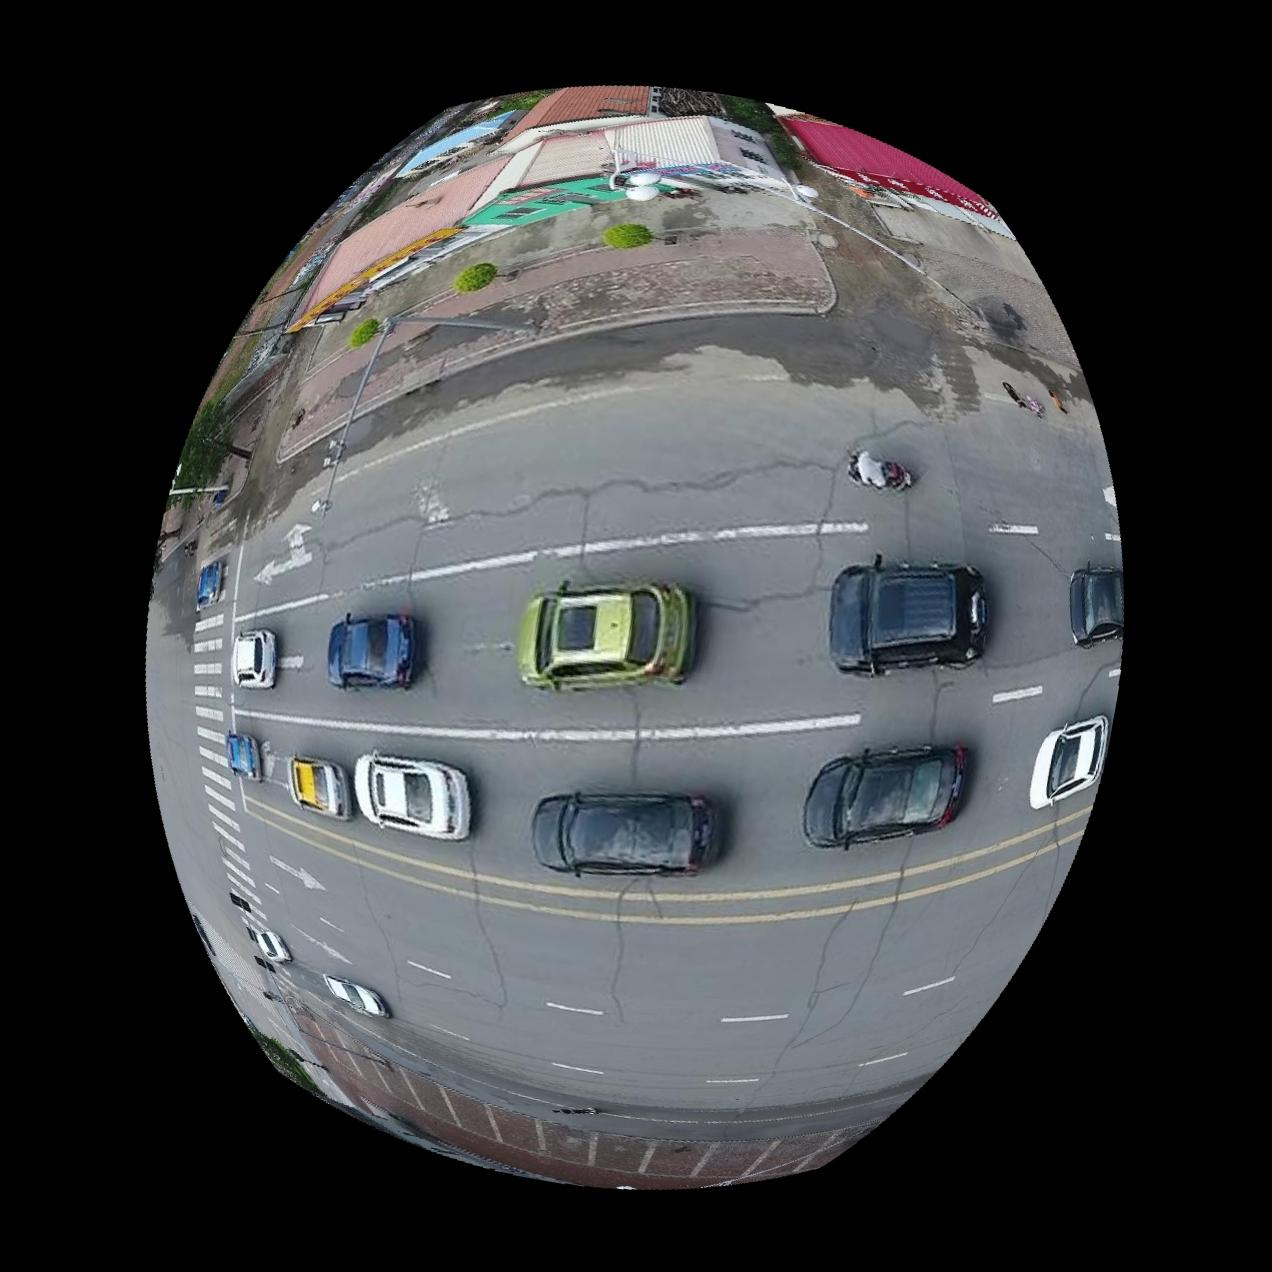cars: (517, 580, 694, 691), (831, 553, 990, 674), (805, 744, 968, 848), (531, 793, 720, 875), (353, 752, 471, 841), (1031, 714, 1112, 808), (326, 613, 415, 687), (1072, 565, 1125, 646), (288, 754, 352, 820), (321, 975, 389, 1017), (229, 628, 275, 687), (224, 732, 261, 780), (249, 931, 290, 964)
